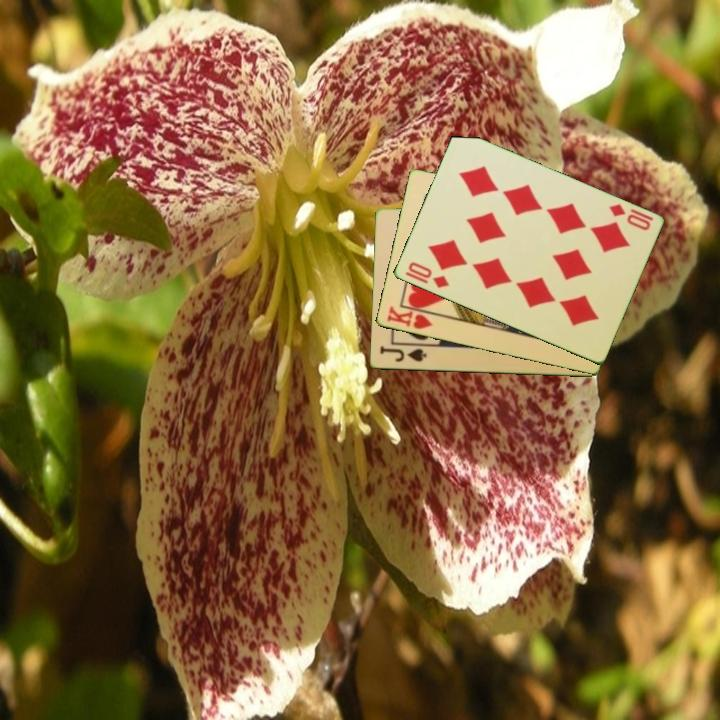10d: (605, 200, 656, 234), (401, 258, 452, 291)
Js: (376, 343, 429, 365)
Kh: (383, 303, 440, 332)
